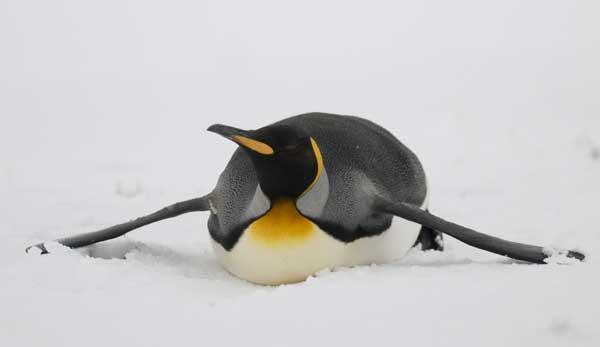king: (13, 93, 598, 291)
